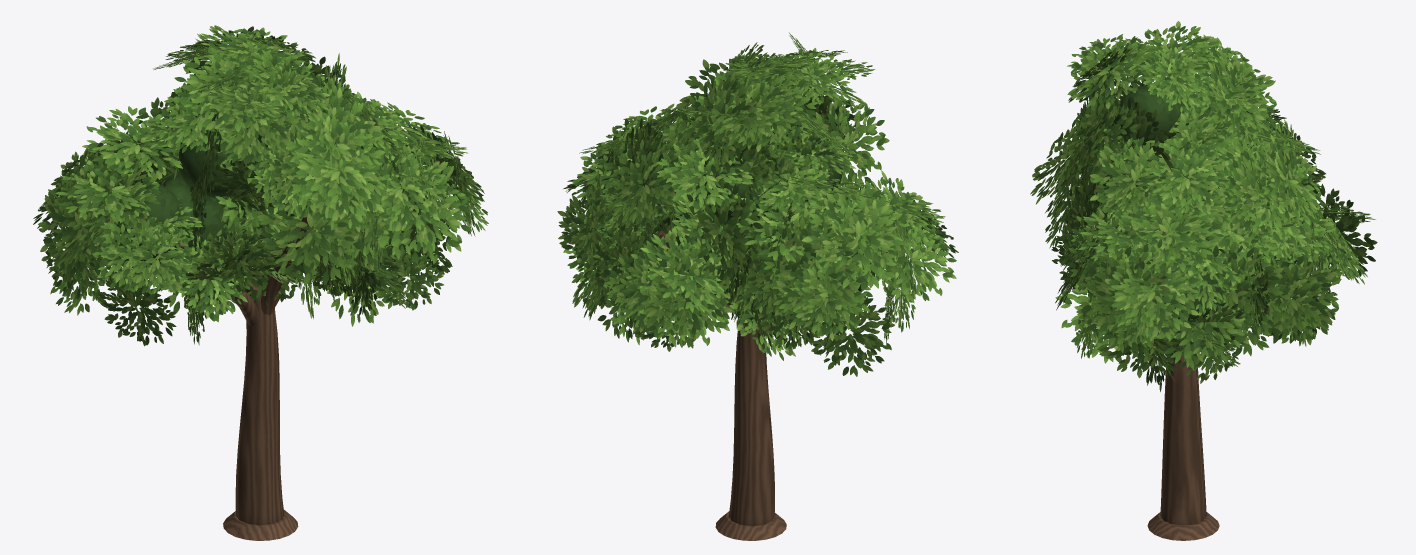
File: tree_round.fbx
The picture shows the model from 3 angles, left to right: view 1: azimuth 30°, elevation 25°; view 2: azimuth 150°, elevation 25°; view 3: azimuth 270°, elevation 25°; orthographic projection. The views are drawn at different scales.
Visible parts, largest first — view 1: leaves, tree_round; view 2: leaves, tree_round; view 3: leaves, tree_round.
Boxes of the visible parts, x1,y1,x2,y2 form: leaves: (33, 25, 488, 346); tree_round: (114, 69, 424, 540); leaves: (557, 32, 958, 376); tree_round: (601, 67, 898, 540); leaves: (1030, 21, 1377, 391); tree_round: (1095, 82, 1299, 540).
Bounding box in the file's own units: 2.64 × 2.98 × 2.18.
